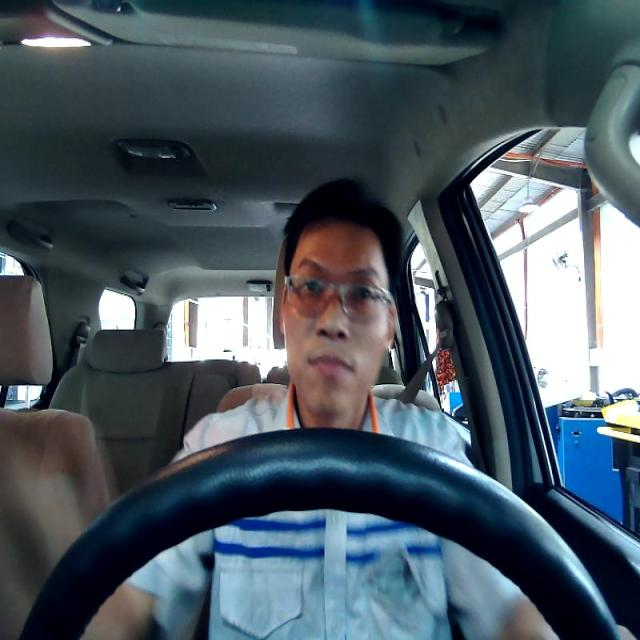focused: (280, 220, 395, 415)
